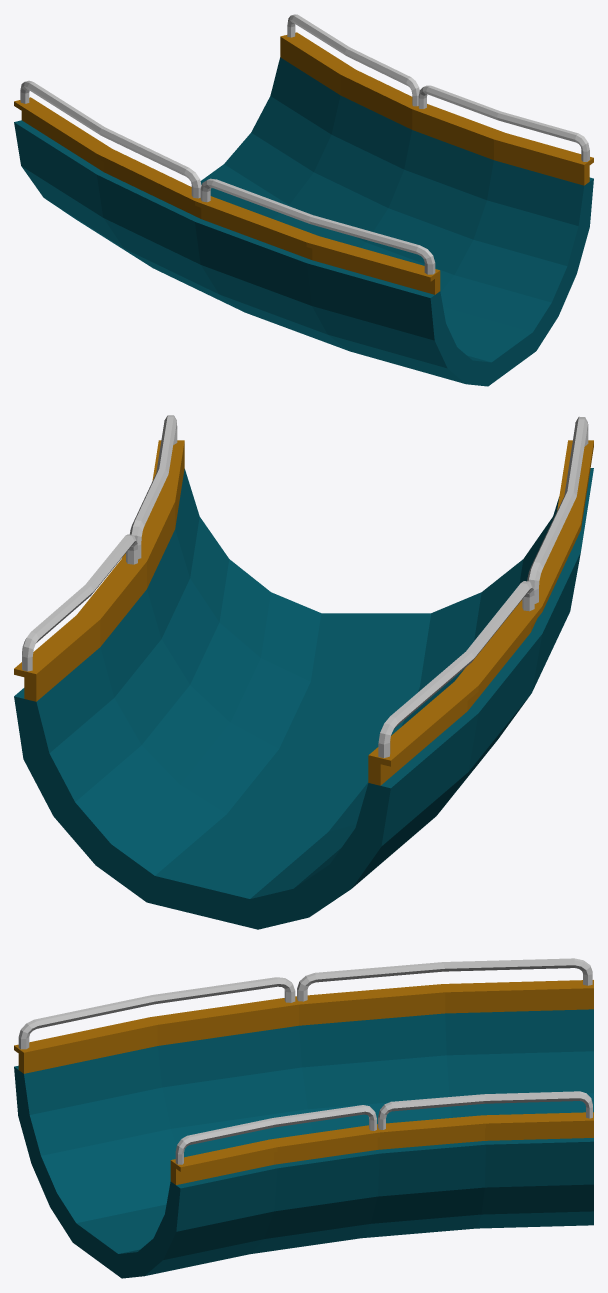
Rendered from halfpipe-curveLeft-30_s.FBX.
The picture shows the model from 3 angles, top to bottom: view 1: azimuth 30°, elevation 25°; view 2: azimuth 150°, elevation 25°; view 3: azimuth 270°, elevation 25°; orthographic projection. The views are drawn at different scales.
Visible parts, largest first — view 1: halfpipe-curveLeft-30_s, wall_r, wall_l; view 2: halfpipe-curveLeft-30_s, wall_r, wall_l; view 3: halfpipe-curveLeft-30_s, wall_r, wall_l.
Boxes of the visible parts, bbox=[...] form: halfpipe-curveLeft-30_s: bbox=[14, 57, 593, 386]; wall_r: bbox=[14, 80, 440, 294]; wall_l: bbox=[280, 14, 593, 185]; halfpipe-curveLeft-30_s: bbox=[14, 468, 593, 929]; wall_r: bbox=[368, 416, 593, 785]; wall_l: bbox=[14, 415, 184, 701]; halfpipe-curveLeft-30_s: bbox=[14, 1009, 593, 1278]; wall_r: bbox=[14, 958, 593, 1073]; wall_l: bbox=[170, 1091, 593, 1184].
Size of what is drawn, in the model's own units: 171 by 223 by 75.73.
